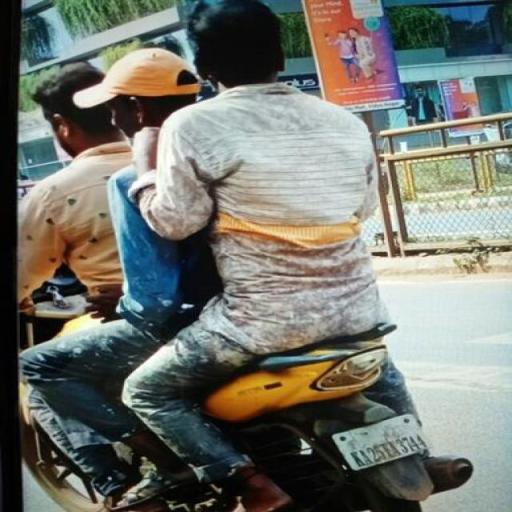tripple riding: (20, 0, 404, 349)
